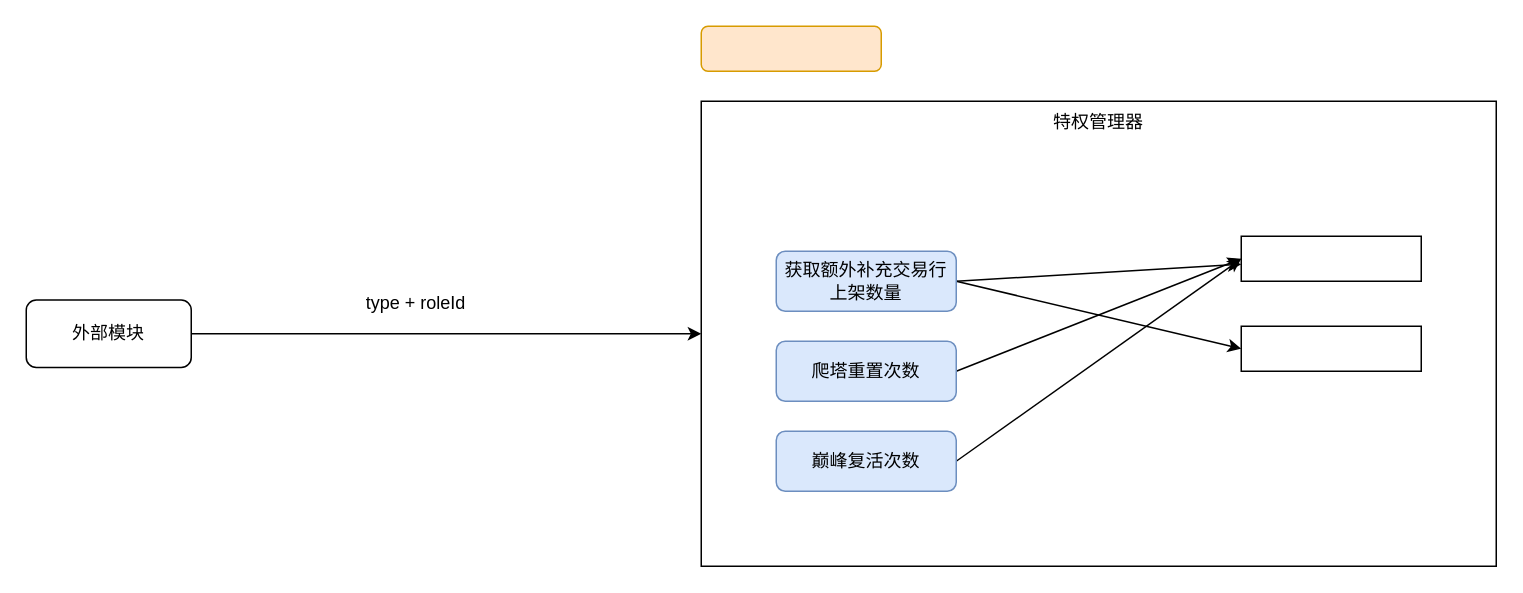
Image size: 1523x593. Some labels were removed from this diagram. Each missing label, with the box of its shape:
PVE段位: (1240, 235, 1421, 281)
月卡: (1240, 325, 1421, 371)
获取PVE等级: (700, 25, 881, 71)
